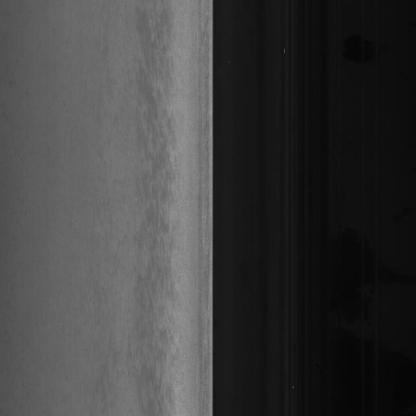silk_spot: (138, 157, 179, 280)
